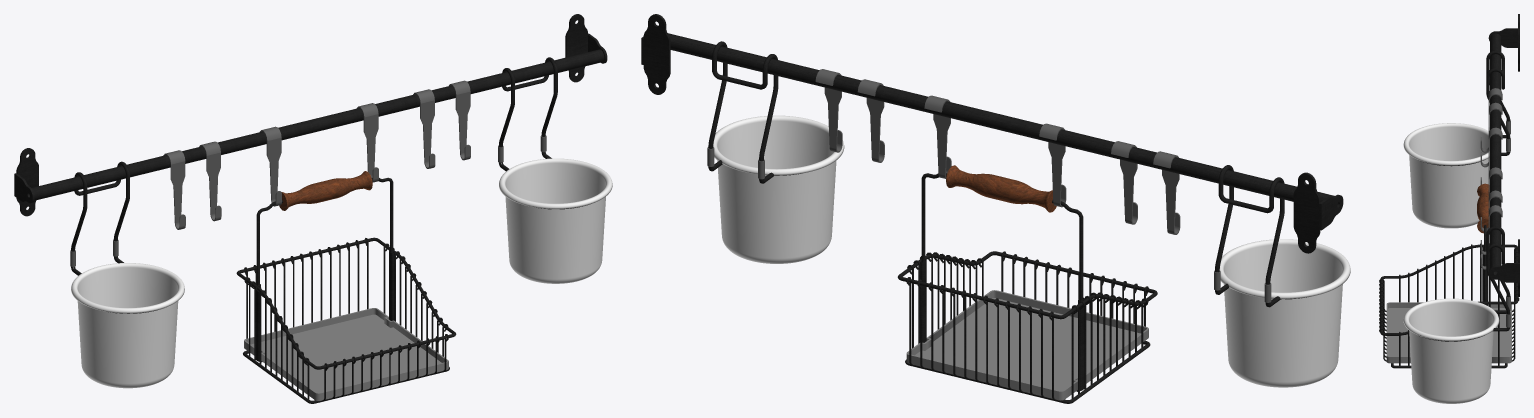
Rendered from 093 - stand divari jadid meshki goldan sefid.glb.
3 views of the same model, side by side, from view 1: azimuth 30°, elevation 25°; view 2: azimuth 150°, elevation 25°; view 3: azimuth 270°, elevation 25° (orthographic). The views are drawn at different scales.
Parts seen in each view (by area): view 1: Group#30 [138476], Group#4 [138488], Group#10 [138461], Group#160 [138444], Group#1 [165508] (×4), [78537] (×2), Group#16 [165514] (×2), Group#13 [138462], Group#88 [138459], [13855], [12972], Group#15 [138460] (+1 smaller); view 2: Group#30 [138476], Group#4 [138488], Group#10 [138461], Group#160 [138444], Group#1 [165508] (×4), [78537] (×2), Group#88 [138459], Group#16 [165514] (×2), Group#13 [138462], [13855], [12972], Group#15 [138460] (+1 smaller); view 3: Group#4 [138488], Group#30 [138476], Group#160 [138444], Group#10 [138461], [78537] (×2), Group#159 [14391] (×2), Group#13 [138462], Group#1 [165508] (×4), Group#88 [138459], Group#16 [165514] (×2), Group#15 [138460], Component#2 [14402] (+2 smaller).
Part boxes in pixels (x1,y1,x2,y2): Group#30 [138476]: [71, 263, 184, 388]; Group#4 [138488]: [499, 158, 612, 283]; Group#10 [138461]: [244, 308, 448, 400]; Group#160 [138444]: [32, 49, 604, 200]; Group#1 [165508] (×4): [163, 80, 470, 229]; [78537] (×2): [71, 57, 587, 313]; Group#16 [165514] (×2): [260, 103, 378, 206]; Group#13 [138462]: [236, 237, 456, 369]; Group#88 [138459]: [279, 171, 372, 210]; [13855]: [565, 14, 587, 82]; [12972]: [16, 148, 38, 216]; Group#15 [138460]: [256, 177, 393, 362]; Group#30 [138476]: [1219, 239, 1350, 387]; Group#4 [138488]: [713, 115, 844, 263]; Group#10 [138461]: [906, 290, 1148, 400]; Group#160 [138444]: [667, 33, 1334, 201]; Group#1 [165508] (×4): [815, 69, 1180, 234]; [78537] (×2): [708, 41, 1306, 307]; Group#88 [138459]: [946, 165, 1056, 212]; Group#16 [165514] (×2): [924, 95, 1066, 207]; Group#13 [138462]: [897, 251, 1157, 319]; [13855]: [643, 14, 670, 94]; [12972]: [1293, 172, 1320, 253]; Group#15 [138460]: [921, 173, 1083, 391]; Group#4 [138488]: [1403, 298, 1499, 403]; Group#30 [138476]: [1403, 123, 1489, 228]; Group#160 [138444]: [1490, 33, 1501, 274]; Group#10 [138461]: [1386, 302, 1511, 363]; [78537] (×2): [1418, 50, 1510, 341]; Group#159 [14391] (×2): [1488, 28, 1519, 282]; Group#13 [138462]: [1380, 244, 1518, 335]; Group#1 [165508] (×4): [1480, 88, 1502, 269]; Group#88 [138459]: [1477, 183, 1489, 233]; Group#16 [165514] (×2): [1480, 127, 1502, 231]; Group#15 [138460]: [1484, 225, 1486, 301]; Component#2 [14402]: [1379, 296, 1519, 361].
Size of the model in its own units: 0.806 by 0.337 by 0.2035.
8 materials, 3 textured.
